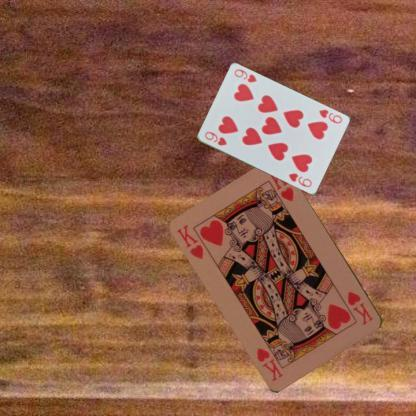9h: (316, 107, 343, 125), (202, 129, 228, 147)
Kh: (174, 222, 206, 262), (345, 288, 375, 326)
